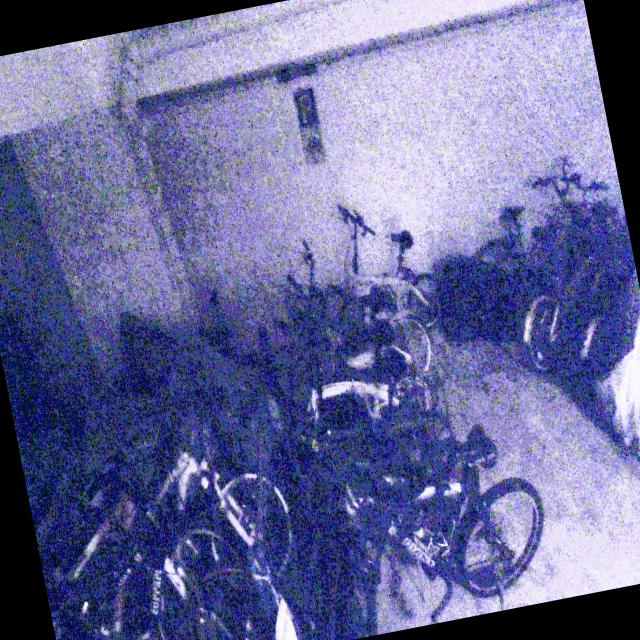bike: (54, 405, 312, 640), (304, 405, 561, 640), (452, 150, 624, 342), (273, 216, 443, 410), (316, 189, 446, 348)
